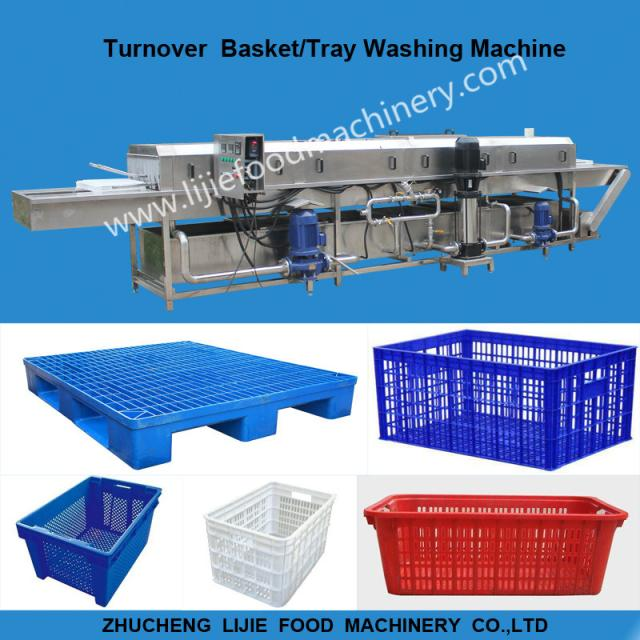basket: (0, 440, 170, 615), (363, 495, 630, 599), (189, 471, 337, 616)
